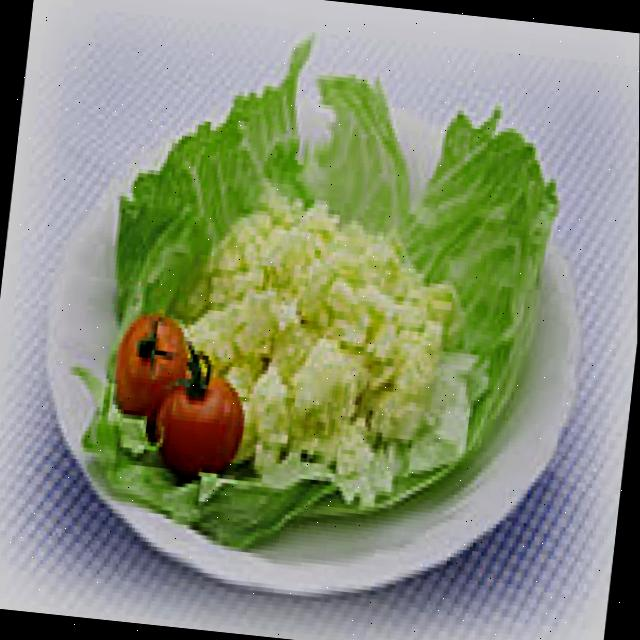蔬菜料理: (10, 0, 627, 630)
